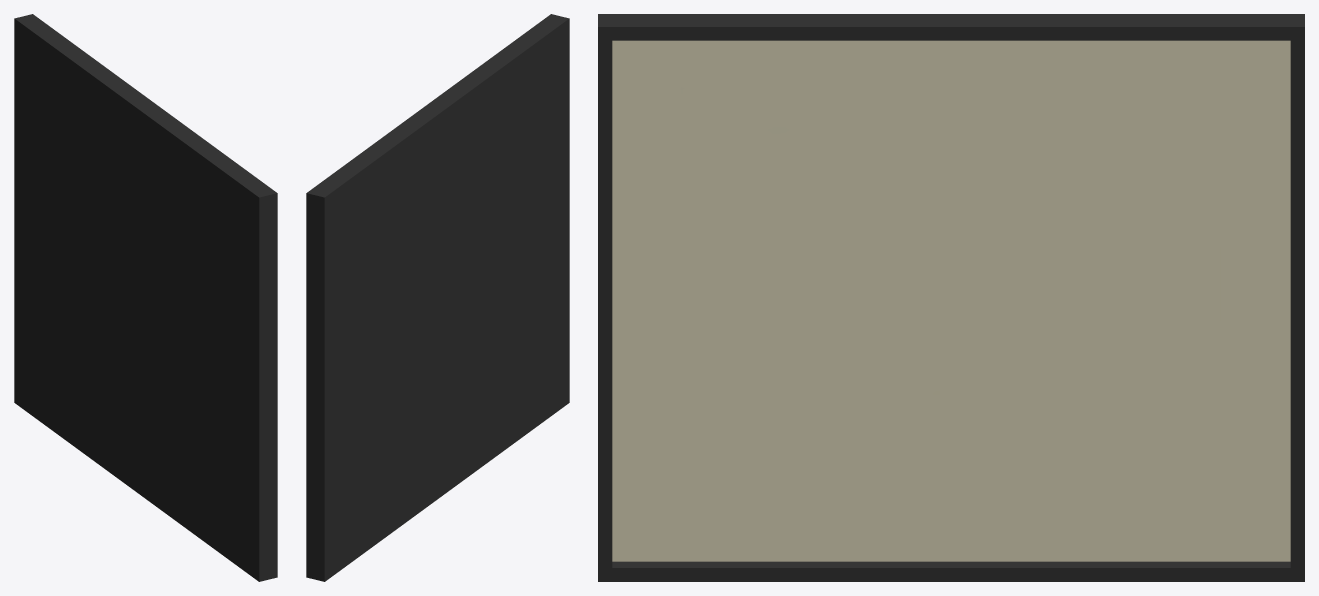
3 renders of one model, left to right at view 1: azimuth 30°, elevation 25°; view 2: azimuth 150°, elevation 25°; view 3: azimuth 270°, elevation 25°, orthographic. The views are drawn at different scales.
Visible parts, largest first — view 1: Image; view 2: Image; view 3: Image.
Boxes of the visible parts, bbox=[...] form: Image: bbox=[14, 14, 277, 581]; Image: bbox=[306, 14, 569, 581]; Image: bbox=[598, 14, 1304, 581].
Bounding box in the file's own units: 0.0477 × 0.9543 × 1.1.
1 material, 1 textured.
